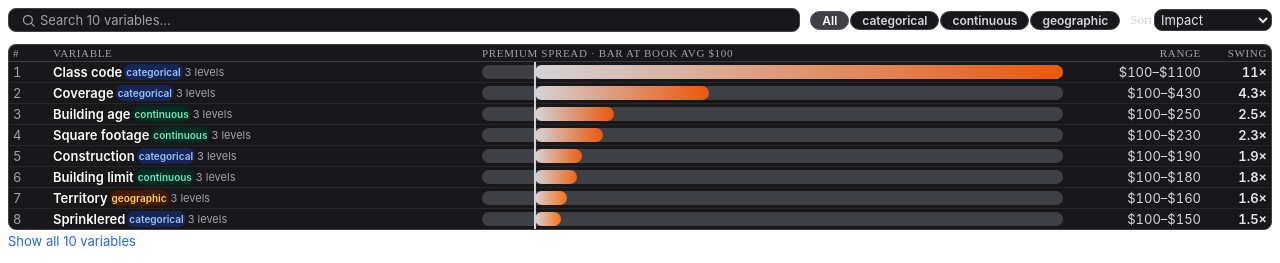
Scenario: <RateDriversList> › filters by search query
Type "build" into the search field with test id "rater-rate-drivers-search" at [413, 20], box [38,11,787,29]
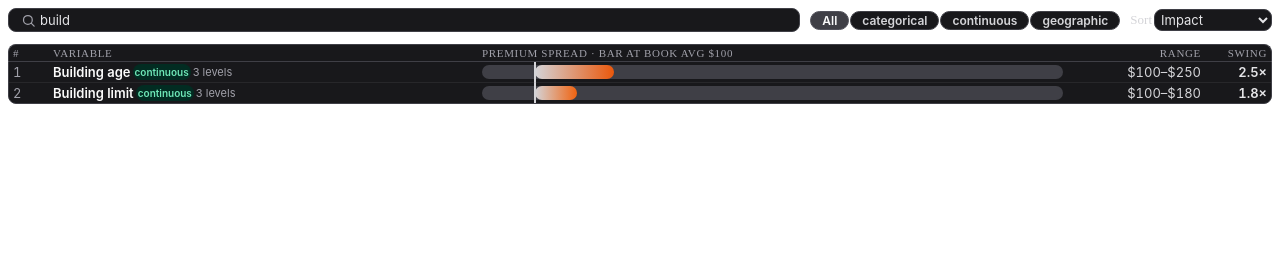
Expected: the button with test id "rater-rate-drivers-row-age" is shown, [9,62,1271,82]
Now the button with test id "rater-rate-drivers-row-class" is gone
